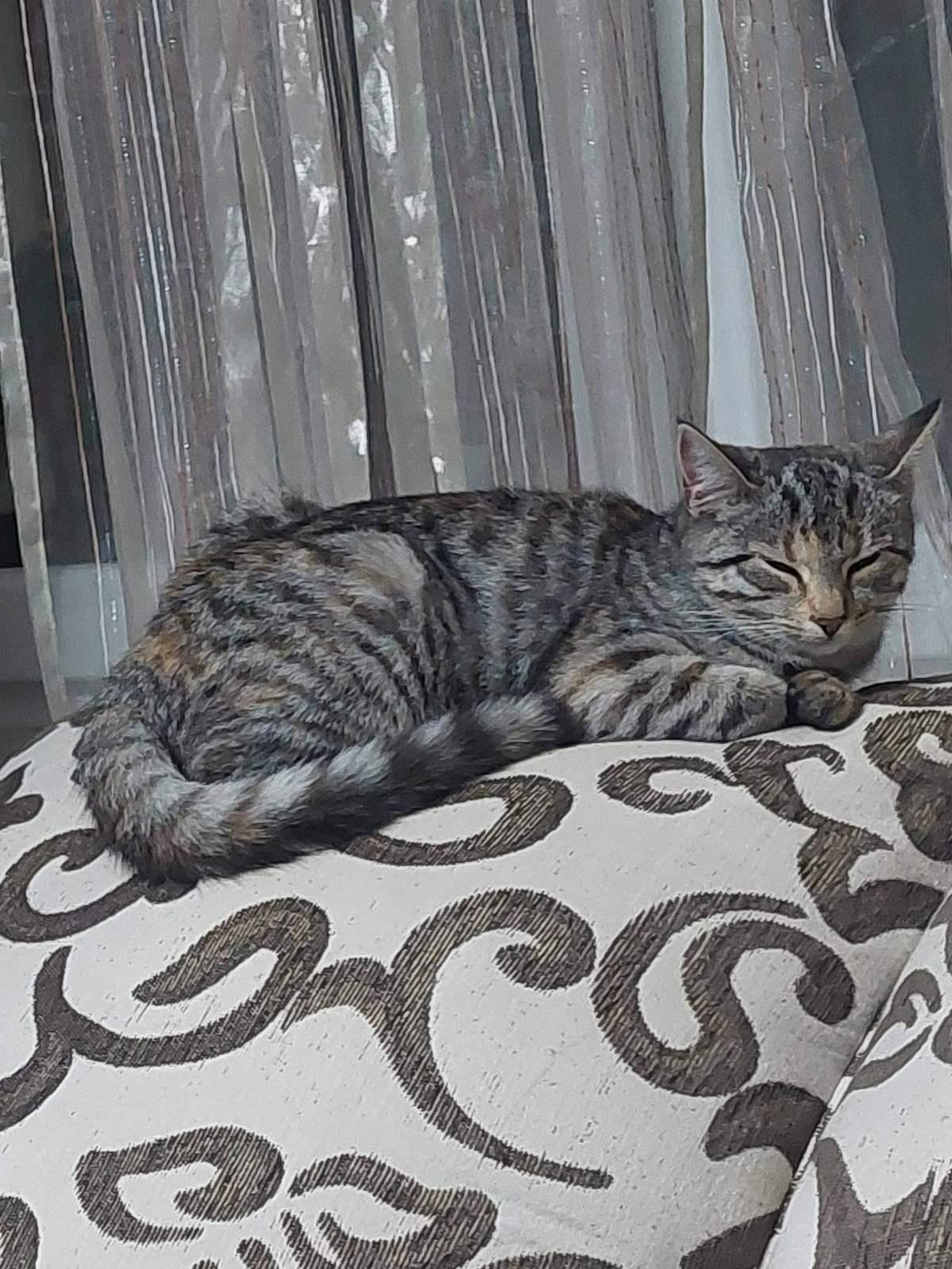macka: (79, 398, 944, 886)
